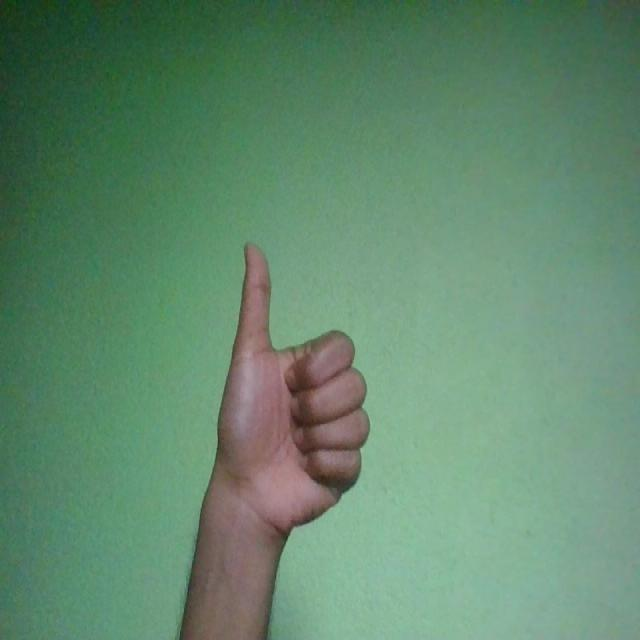Good Job: (218, 244, 372, 540)
